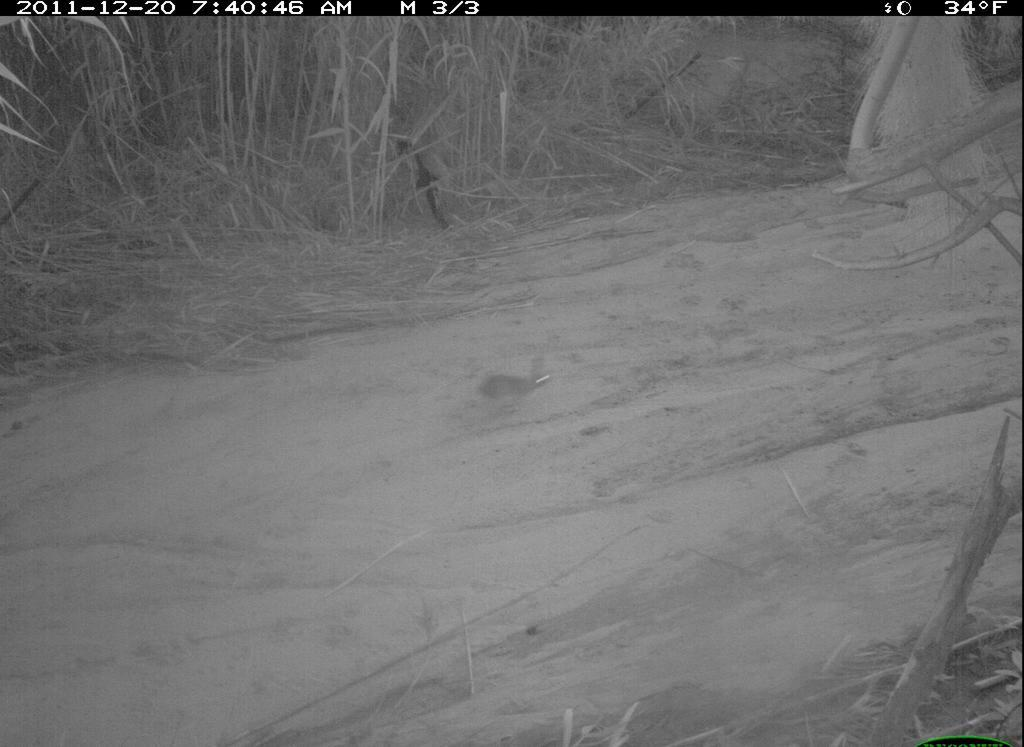rabbit: (468, 349, 569, 429)
